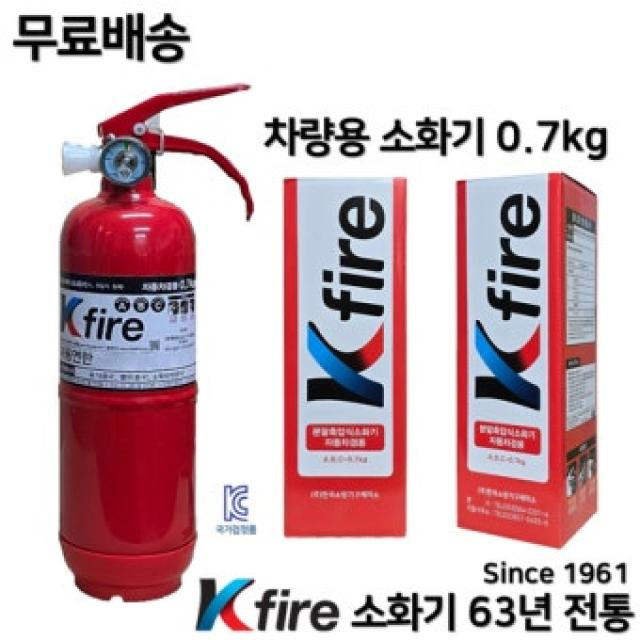pressure gauge: (100, 138, 152, 186)
